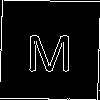M: (25, 25, 74, 72)
